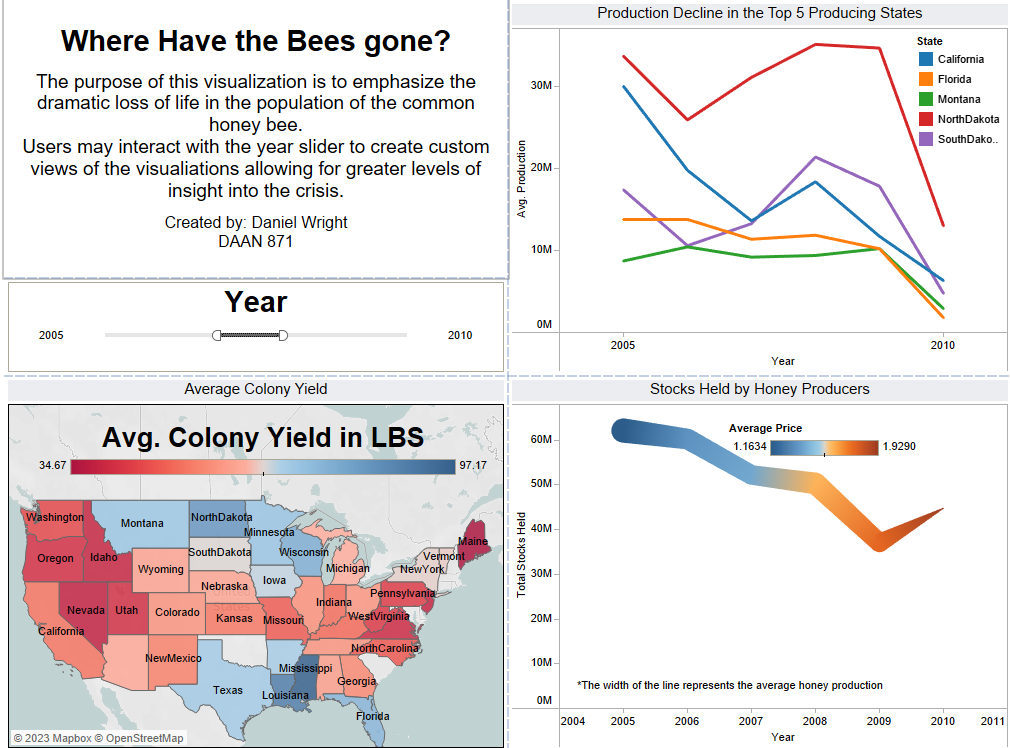

What the dashboard file says about the page in this screenshot:
{"tool":"tableau","page":{"name":"Big 'ol Board","canvas":[1024,768],"ordinal":0},"visuals":[{"type":"text","box":[8,8,504,278]},{"type":"worksheet","title":"Production trend","mark":"Automatic","rows":["production"],"cols":["year"],"box":[512,8,504,376]},{"type":"legend","title":"Production trend","param":"[federated.1hg4dhw0lk5xyk121qrt3028j52n].[none:state:nk]","box":[920,43,89,114]},{"type":"filter","title":"Production trend","param":"[federated.1hg4dhw0lk5xyk121qrt3028j52n].[none:year:qk]","box":[8,286,504,98]},{"type":"worksheet","title":"Colony yield","mark":"Automatic","box":[8,384,504,376]},{"type":"worksheet","title":"Stocks Held by Honey Producers","mark":"Automatic","rows":["stocks"],"cols":["year"],"box":[512,384,504,376]},{"type":"legend","title":"Stocks Held by Honey Producers","param":"[federated.1hg4dhw0lk5xyk121qrt3028j52n].[avg:average_price:qk]","box":[733,430,192,64]},{"type":"legend","title":"Colony yield","param":"[federated.1hg4dhw0lk5xyk121qrt3028j52n].[avg:yield_per_colony:qk]","box":[39,431,457,83]},{"type":"text","box":[574,675,320,38]}]}

Visuals, with their boxes in screenshot pixels (x1, y1, x2, y2), scaled from the page's 1024x768 canvas onto the 1010x748 screenshot:
text: rect(8, 8, 505, 279)
"Production trend" worksheet: rect(505, 8, 1002, 374)
"Production trend" legend: rect(907, 42, 995, 153)
"Production trend" filter: rect(8, 279, 505, 374)
"Colony yield" worksheet: rect(8, 374, 505, 740)
"Stocks Held by Honey Producers" worksheet: rect(505, 374, 1002, 740)
"Stocks Held by Honey Producers" legend: rect(723, 419, 912, 481)
"Colony yield" legend: rect(38, 420, 489, 501)
text: rect(566, 657, 882, 694)
